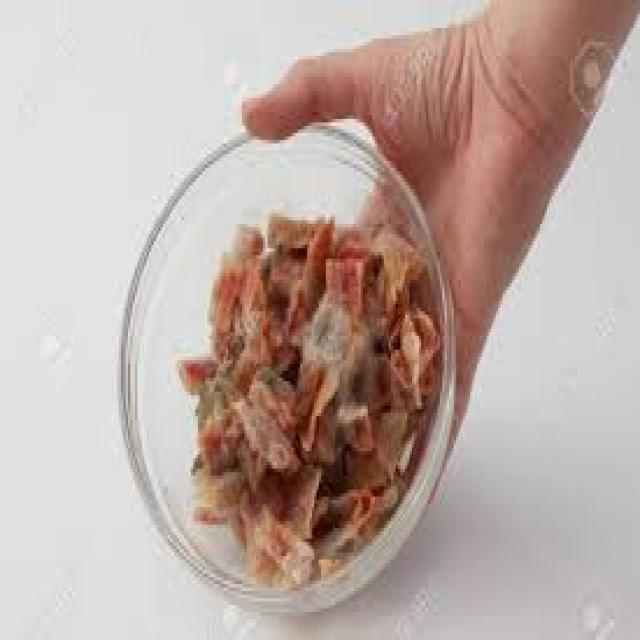organic waste: (179, 213, 433, 584), (312, 325, 389, 472), (230, 486, 312, 591), (202, 217, 266, 350), (291, 300, 351, 440), (221, 392, 300, 486), (365, 220, 419, 329), (380, 304, 436, 409), (247, 360, 310, 441), (272, 458, 326, 546), (344, 398, 402, 476), (298, 207, 335, 326), (189, 402, 249, 472), (186, 469, 256, 528), (316, 252, 366, 318), (314, 486, 370, 539), (258, 210, 316, 245), (177, 353, 223, 395), (330, 217, 372, 252), (363, 476, 403, 504)
